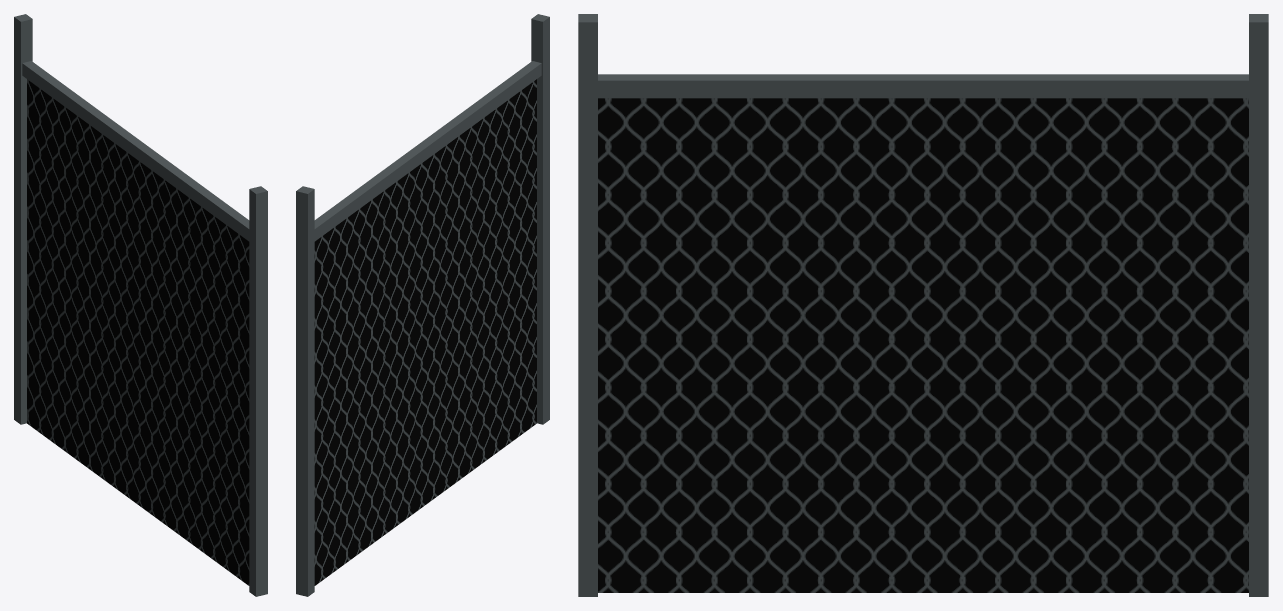
The model's file is fance_01_p1.fbx.
The picture shows the model from 3 angles, left to right: view 1: azimuth 30°, elevation 25°; view 2: azimuth 150°, elevation 25°; view 3: azimuth 270°, elevation 25°; orthographic projection. The views are drawn at different scales.
Visible parts, largest first — view 1: fance_01_p1; view 2: fance_01_p1; view 3: fance_01_p1.
Part boxes in pixels (<box>): fance_01_p1: <box>14,14,267,596</box>; fance_01_p1: <box>296,14,549,596</box>; fance_01_p1: <box>578,14,1268,596</box>.
Bounding box in the file's own units: 11.56 × 376 × 409.
